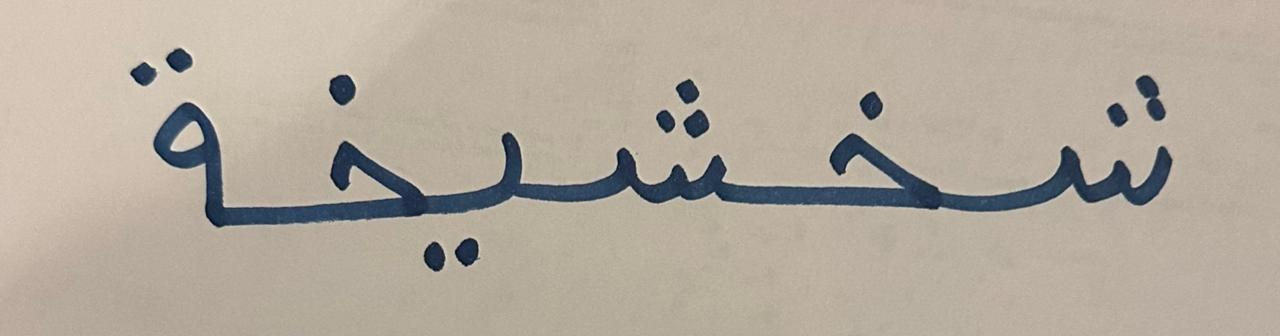lam: (760, 26, 965, 274), (254, 27, 416, 315)
tah: (970, 14, 1204, 267), (554, 19, 756, 267)
thal: (94, 36, 251, 277)
zah: (418, 76, 550, 291)
